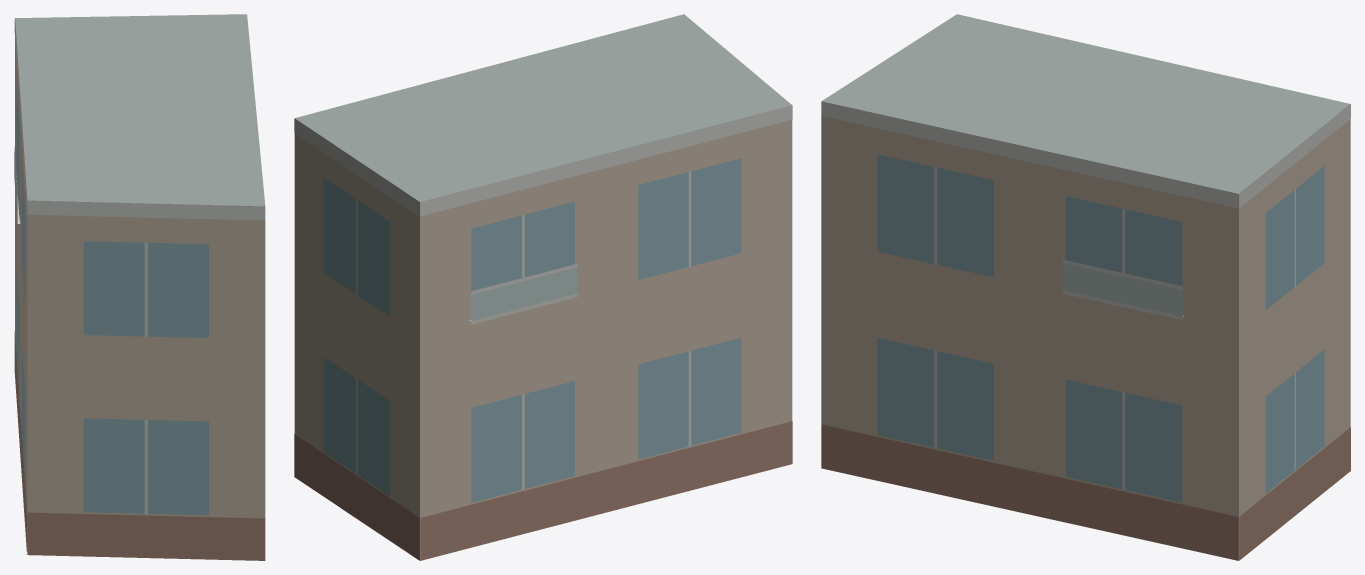
Rendered from survey-upis-32814480.glb.
The picture shows the model from 3 angles, left to right: view 1: azimuth 30°, elevation 25°; view 2: azimuth 150°, elevation 25°; view 3: azimuth 270°, elevation 25°; orthographic projection. The views are drawn at different scales.
Visible parts, largest first — view 1: survey-upis-32814480.tmp; view 2: survey-upis-32814480.tmp; view 3: survey-upis-32814480.tmp.
Boxes of the visible parts, x1,y1,x2,y2 form: survey-upis-32814480.tmp: (14,14,265,560); survey-upis-32814480.tmp: (294,14,792,560); survey-upis-32814480.tmp: (821,14,1350,560).
Size of the model in its own units: 6.42 by 6.1 by 7.98.
